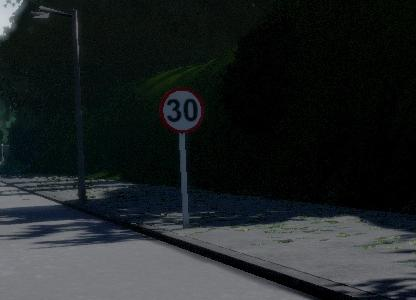Speed_30: (157, 85, 207, 136)
